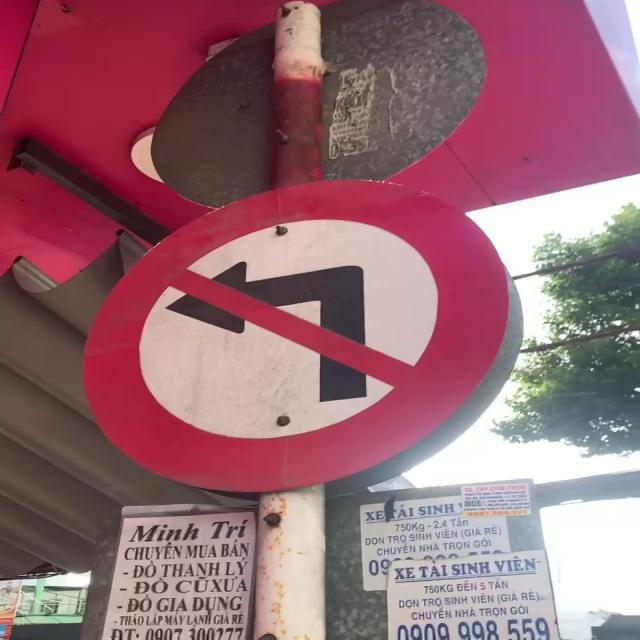Cam_Re_Trai: (79, 177, 518, 493)
